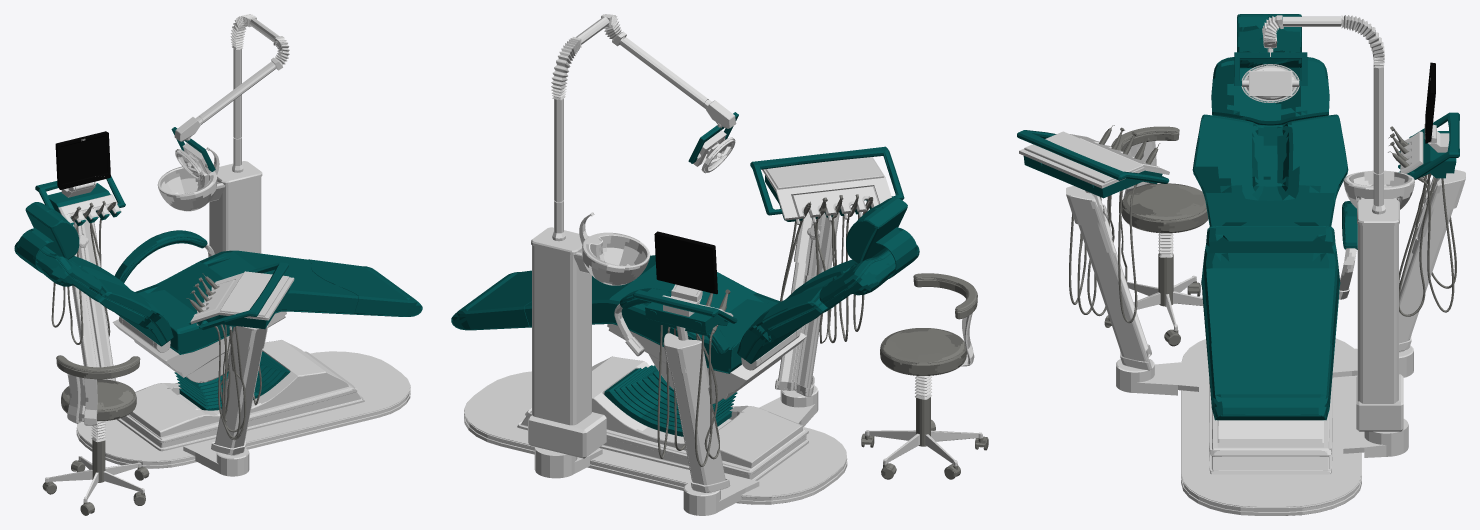
Rendered from solo silla 05.3.glb.
3 renders of one model, left to right at view 1: azimuth 30°, elevation 25°; view 2: azimuth 150°, elevation 25°; view 3: azimuth 270°, elevation 25°, orthographic. The views are drawn at different scales.
Visible parts, largest first — view 1: Dentist_s_place_of_work.001, Dentist_s_place_of_work.002, Dentist_s_place_of_work.004, Dentist_s_place_of_work.005, Dentist_s_place_of_work.003, Dentist_s_place_of_work.022, Dentist_s_place_of_work.006, Dentist_s_place_of_work.016, Dentist_s_place_of_work.009, Dentist_s_place_of_work.008, Dentist_s_place_of_work.021, Dentist_s_place_of_work.007 (+2 smaller); view 2: Dentist_s_place_of_work.001, Dentist_s_place_of_work.002, Dentist_s_place_of_work.005, Dentist_s_place_of_work.004, Dentist_s_place_of_work.003, Dentist_s_place_of_work.006, Dentist_s_place_of_work.022, Dentist_s_place_of_work.016, Dentist_s_place_of_work.021, Dentist_s_place_of_work.008, Dentist_s_place_of_work.020, Dentist_s_place_of_work.009 (+2 smaller); view 3: Dentist_s_place_of_work.002, Dentist_s_place_of_work.001, Dentist_s_place_of_work.005, Dentist_s_place_of_work.003, Dentist_s_place_of_work.004, Dentist_s_place_of_work.016, Dentist_s_place_of_work.021, Dentist_s_place_of_work.017, Dentist_s_place_of_work.015, Dentist_s_place_of_work.023, Dentist_s_place_of_work.018, Dentist_s_place_of_work.009 (+2 smaller).
Part boxes in pixels (x1,y1,x2,y2): Dentist_s_place_of_work.001: (58,14,294,476); Dentist_s_place_of_work.002: (14,202,422,354); Dentist_s_place_of_work.004: (116,340,364,451); Dentist_s_place_of_work.005: (76,351,410,468); Dentist_s_place_of_work.003: (42,355,149,515); Dentist_s_place_of_work.022: (55,131,110,189); Dentist_s_place_of_work.006: (174,351,289,410); Dentist_s_place_of_work.016: (196,262,289,329); Dentist_s_place_of_work.009: (114,230,207,282); Dentist_s_place_of_work.008: (112,311,286,372); Dentist_s_place_of_work.021: (35,176,125,225); Dentist_s_place_of_work.007: (134,315,285,382); Dentist_s_place_of_work.001: (528,14,891,515); Dentist_s_place_of_work.002: (451,197,919,373); Dentist_s_place_of_work.005: (464,371,847,504); Dentist_s_place_of_work.004: (517,356,808,480); Dentist_s_place_of_work.003: (861,273,988,479); Dentist_s_place_of_work.006: (604,365,737,436); Dentist_s_place_of_work.022: (654,231,717,294); Dentist_s_place_of_work.016: (750,146,904,221); Dentist_s_place_of_work.021: (633,290,737,335); Dentist_s_place_of_work.008: (607,324,806,393); Dentist_s_place_of_work.020: (695,289,730,466); Dentist_s_place_of_work.009: (619,288,729,354); Dentist_s_place_of_work.002: (1192,14,1348,420); Dentist_s_place_of_work.001: (1019,15,1465,457); Dentist_s_place_of_work.005: (1181,338,1361,515); Dentist_s_place_of_work.003: (1104,126,1208,346); Dentist_s_place_of_work.004: (1209,379,1332,474); Dentist_s_place_of_work.016: (1017,130,1169,198); Dentist_s_place_of_work.021: (1398,112,1459,179); Dentist_s_place_of_work.017: (1388,151,1454,312); Dentist_s_place_of_work.015: (1118,143,1160,323); Dentist_s_place_of_work.023: (1234,52,1307,85); Dentist_s_place_of_work.018: (1389,141,1436,316); Dentist_s_place_of_work.009: (1342,201,1357,249).
Bounding box in the file's own units: 2.17 × 1.95 × 1.82.
